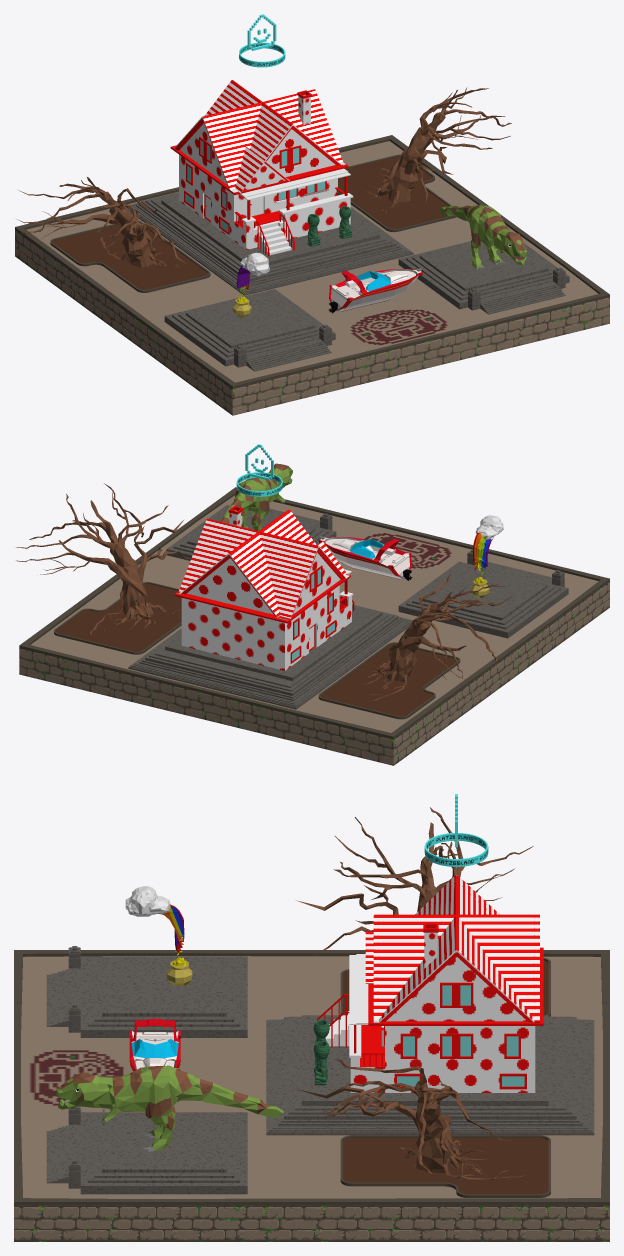
3 renders of one model, top to bottom at view 1: azimuth 30°, elevation 25°; view 2: azimuth 150°, elevation 25°; view 3: azimuth 270°, elevation 25°, orthographic. The views are drawn at different scales.
Visible parts, largest first — view 1: Cube.011, Cube.196, ANIMAL_TREX, VEHICLES_BOAT, OBJRANDOM_RAINBOW, TYPE_PREMIUM; view 2: Cube.011, Cube.196, VEHICLES_BOAT, ANIMAL_TREX, OBJRANDOM_RAINBOW, TYPE_PREMIUM; view 3: Cube.011, Cube.196, ANIMAL_TREX, VEHICLES_BOAT, OBJRANDOM_RAINBOW, TYPE_PREMIUM.
Part boxes in pixels (x1,y1,x2,y2): Cube.011: [15, 87, 609, 415]; Cube.196: [170, 80, 353, 256]; ANIMAL_TREX: [439, 204, 527, 269]; VEHICLES_BOAT: [328, 268, 422, 313]; OBJRANDOM_RAINBOW: [232, 252, 269, 317]; TYPE_PREMIUM: [239, 14, 285, 67]; Cube.011: [16, 483, 609, 765]; Cube.196: [174, 506, 354, 670]; VEHICLES_BOAT: [319, 536, 412, 580]; ANIMAL_TREX: [219, 463, 292, 530]; OBJRANDOM_RAINBOW: [471, 515, 503, 598]; TYPE_PREMIUM: [236, 444, 282, 496]; Cube.011: [14, 807, 609, 1241]; Cube.196: [317, 875, 543, 1092]; ANIMAL_TREX: [56, 1065, 283, 1151]; VEHICLES_BOAT: [129, 1019, 180, 1071]; OBJRANDOM_RAINBOW: [125, 886, 192, 985]; TYPE_PREMIUM: [424, 794, 488, 866].
Size of the model in its own units: 5099 by 2444 by 4000.
39 materials, 7 textured.
